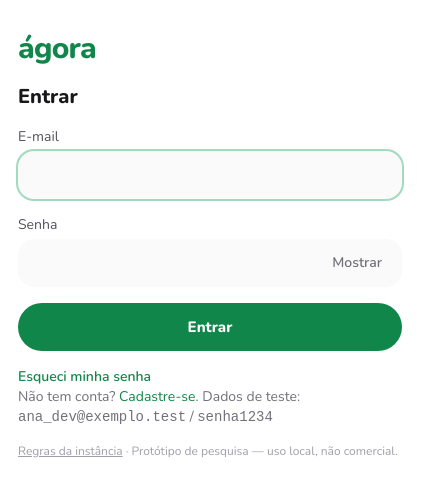
Test case: <Login> com e-mail e senha › erro de credenciais aparece na tela
Type "ana_dev@exemplo.test" into the field labelled "E-mail" at (210,175), box [18,151,402,199]
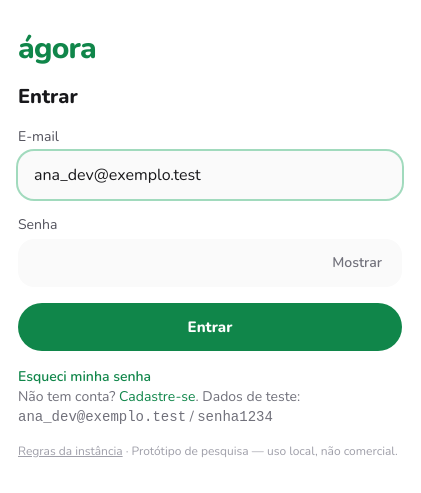
Type "errada" into the password field labelled "Senha" at (210,263), box [18,239,402,287]
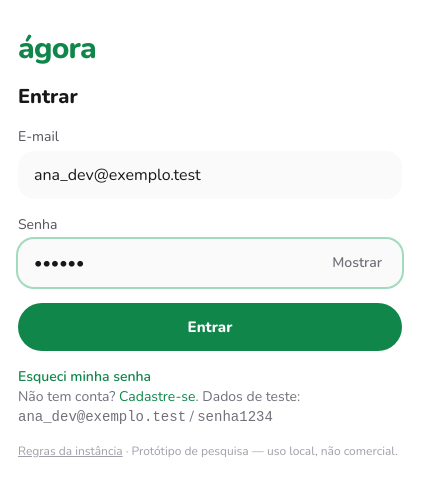
Click the button "Entrar" at (210,327), box [18,303,402,351]
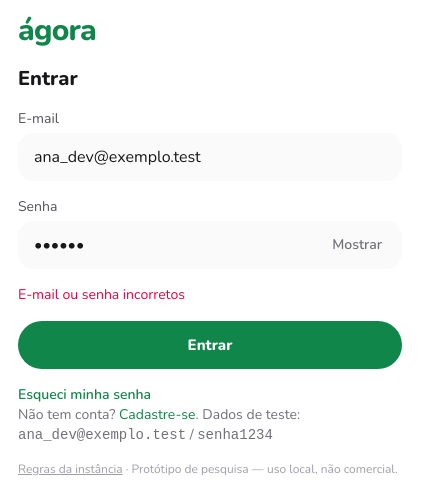
Result: the message reads "E-mail ou senha incorretos" at [18,285,185,304]
